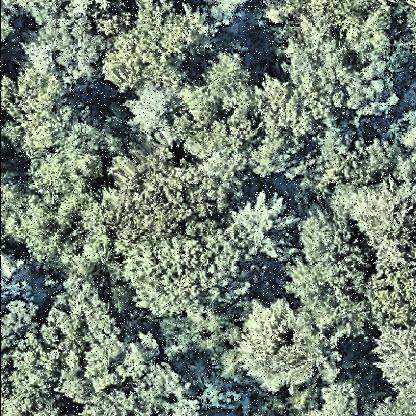tree-top: (290, 1, 402, 112), (285, 216, 377, 339), (102, 155, 220, 245), (45, 279, 127, 400), (235, 295, 324, 396), (25, 122, 119, 214), (178, 73, 260, 173), (314, 109, 398, 199), (123, 237, 217, 317), (25, 214, 113, 288), (25, 8, 112, 82), (253, 74, 313, 174), (230, 192, 302, 270), (9, 64, 81, 140), (344, 186, 414, 260), (2, 340, 62, 416), (367, 240, 416, 330), (134, 360, 202, 416), (121, 78, 181, 140), (200, 50, 260, 112), (157, 5, 221, 62), (99, 29, 154, 93), (372, 319, 416, 392), (315, 376, 369, 416), (2, 159, 28, 237), (1, 304, 48, 344), (74, 392, 144, 416), (1, 239, 25, 295), (397, 103, 416, 173), (367, 393, 416, 416), (200, 1, 256, 21), (1, 4, 21, 56), (401, 1, 416, 56)
